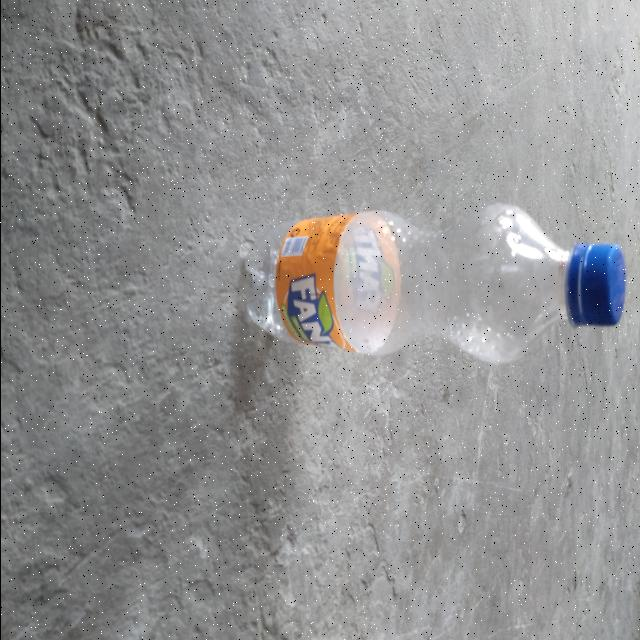plastic: (232, 187, 634, 371)
